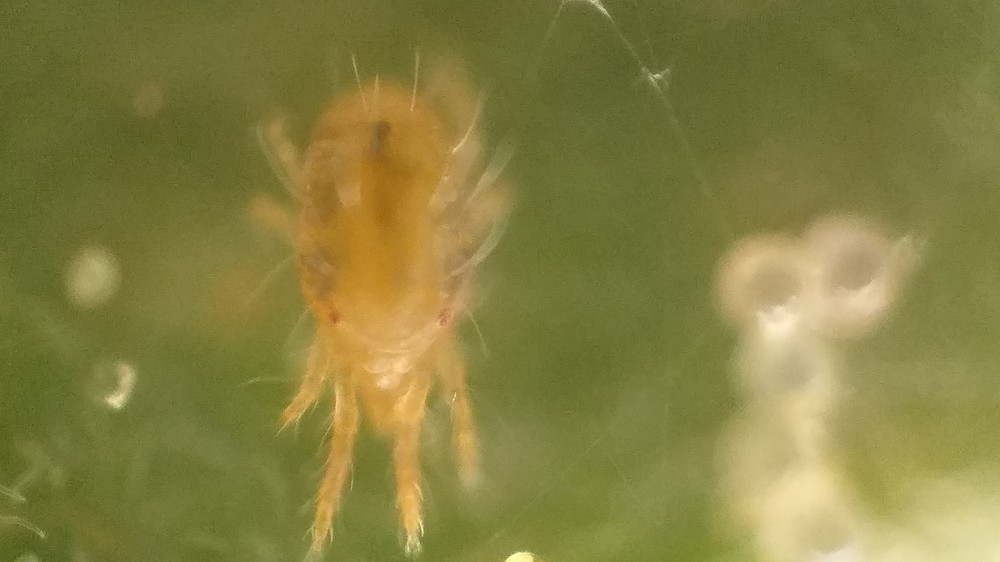Aracnido Rojo: (217, 69, 554, 557)
